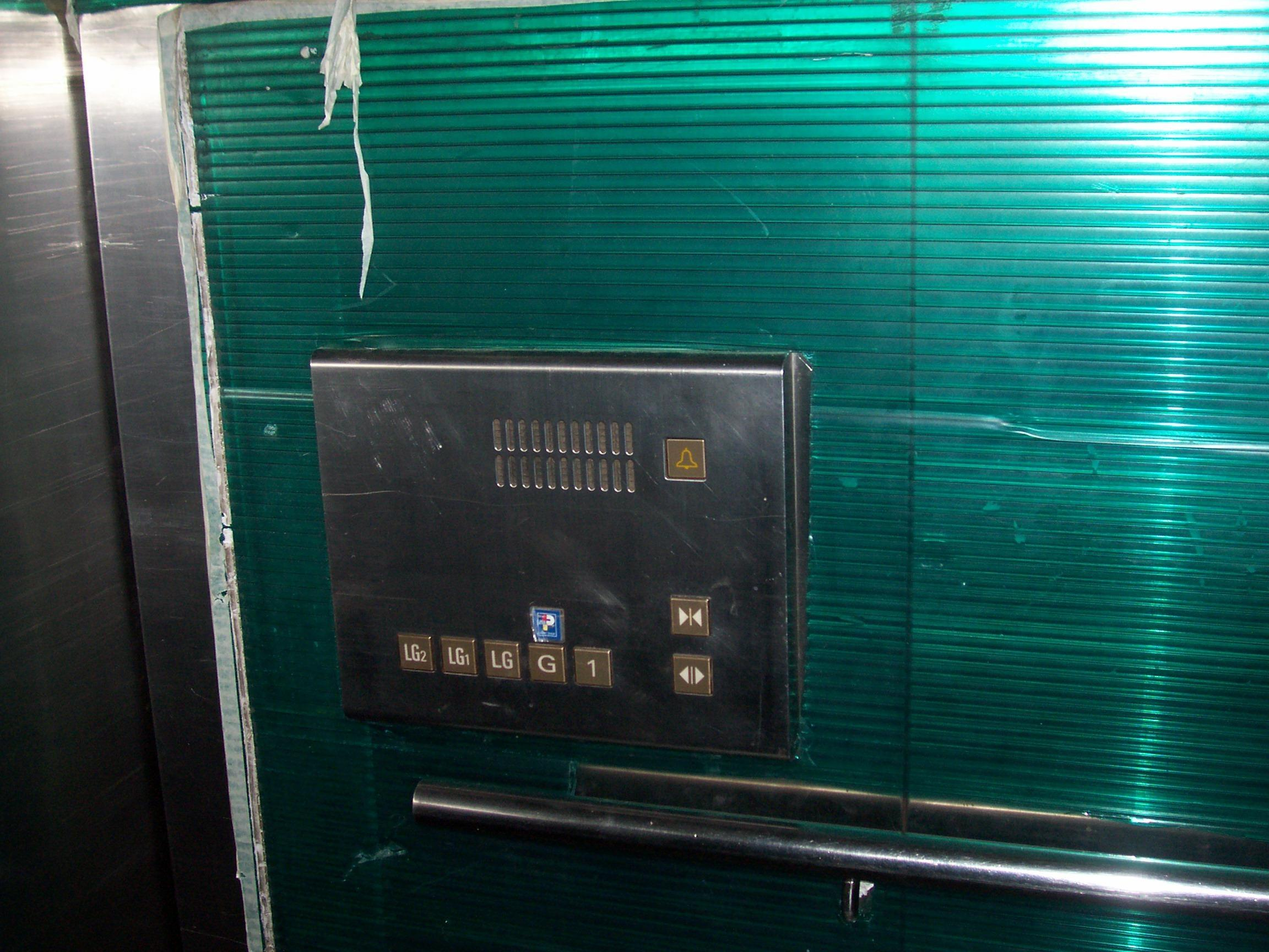1: (570, 644, 614, 689)
G: (523, 641, 568, 685)
alarm: (659, 435, 708, 483)
close: (666, 593, 712, 640)
open: (667, 649, 715, 699)
unknown: (393, 630, 437, 676), (436, 632, 479, 678), (480, 637, 522, 682)
